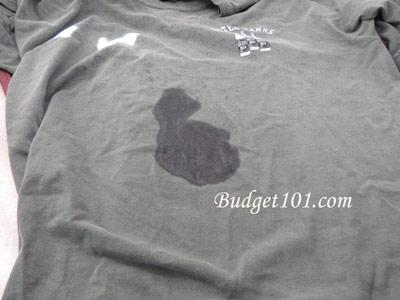gun: (148, 85, 240, 184)
